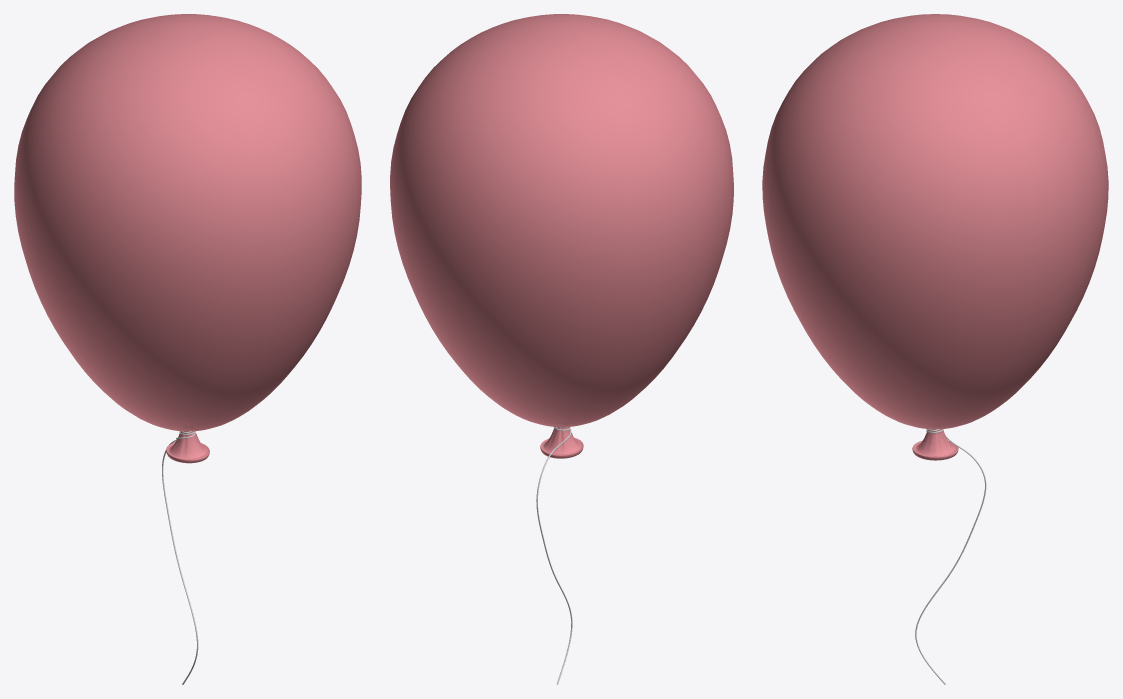
The model's file is uploads_files_2483092_Balloon.fbx.
3 views of the same model, side by side, from view 1: azimuth 30°, elevation 25°; view 2: azimuth 150°, elevation 25°; view 3: azimuth 270°, elevation 25° (orthographic).
Visible parts, largest first — view 1: Balloon, String1; view 2: Balloon, String1; view 3: Balloon, String1.
Boxes of the visible parts, x1,y1,x2,y2 form: Balloon: [14, 14, 361, 463]; String1: [162, 431, 198, 684]; Balloon: [390, 14, 733, 458]; String1: [536, 427, 572, 684]; Balloon: [762, 14, 1108, 460]; String1: [915, 429, 986, 684].
Bounding box in the file's own units: 0.8871 × 1.85 × 0.8871.
